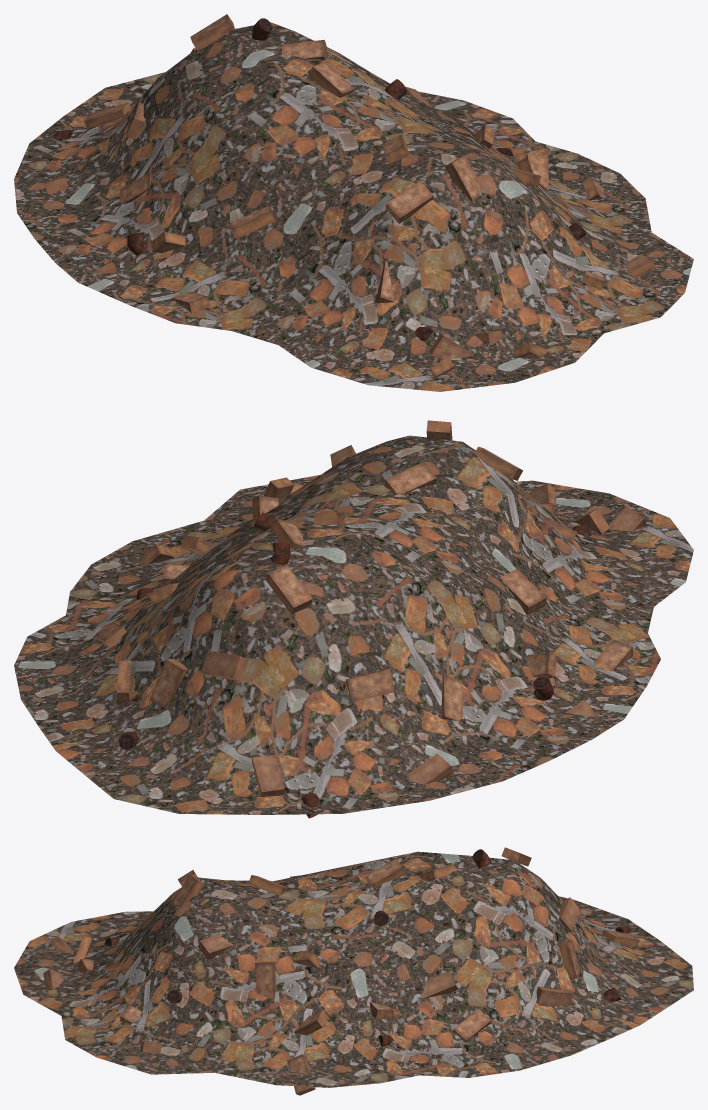
Rendered from garbage_pile_draco.glb.
3 renders of one model, top to bottom at view 1: azimuth 30°, elevation 25°; view 2: azimuth 150°, elevation 25°; view 3: azimuth 270°, elevation 25°, orthographic. The views are drawn at different scales.
Parts seen in each view (by area): view 1: Pile, Bricks_can_low_MAt_overall_0; view 2: Pile, Bricks_can_low_MAt_overall_0; view 3: Pile, Bricks_can_low_MAt_overall_0.
Part boxes in pixels (box(x1,y1,x2,y2)): Pile: box(14, 22, 693, 391); Bricks_can_low_MAt_overall_0: box(44, 14, 655, 377); Pile: box(14, 435, 693, 814); Bricks_can_low_MAt_overall_0: box(95, 420, 645, 818); Pile: box(14, 851, 693, 1087); Bricks_can_low_MAt_overall_0: box(43, 847, 639, 1095).
Bounding box in the file's own units: 52.83 × 17.25 × 71.61.
2 materials, 2 textured.
